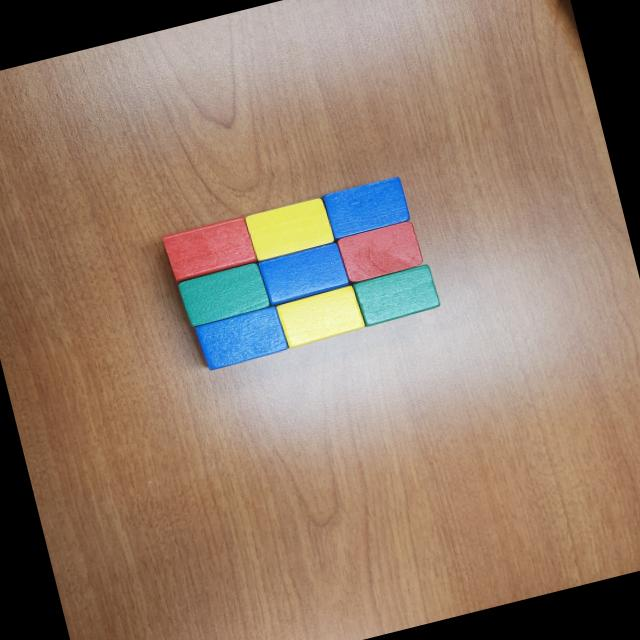blue: (190, 302, 290, 373), (256, 238, 352, 306), (318, 175, 412, 242)
green: (173, 260, 272, 330), (350, 262, 442, 327)
red: (160, 215, 258, 282), (336, 220, 423, 283)
yellow: (242, 195, 335, 262), (274, 284, 366, 348)
